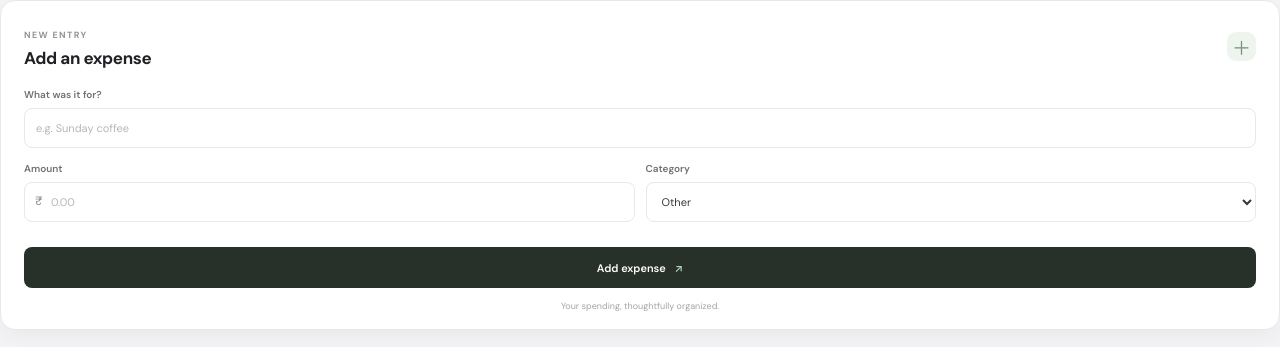
Scenario: ExpenseForm › rejects an empty title
The image size is (1280, 347).
Step 1. Type "10" into the number field labelled "Amount ₹" → (329, 202), box [24,182,634,222]
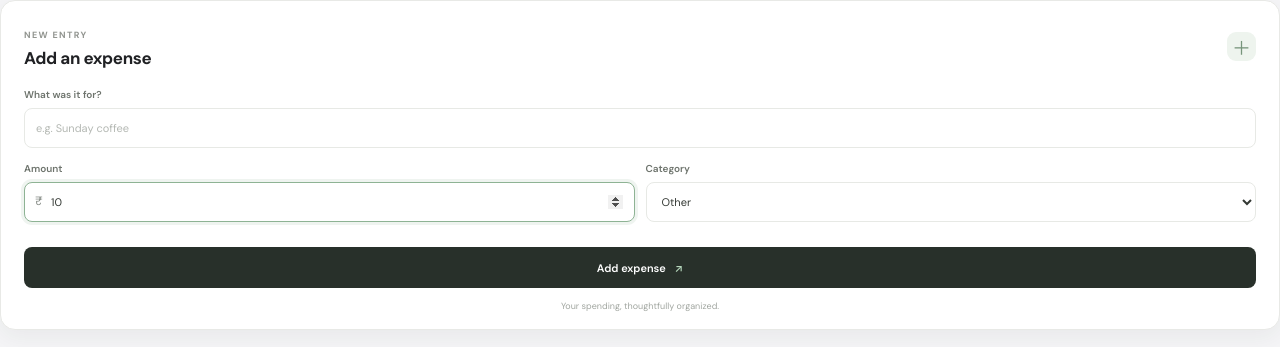
Step 2. Click the button "Add expense ↗" → click(640, 268), box [24,247,1256,288]
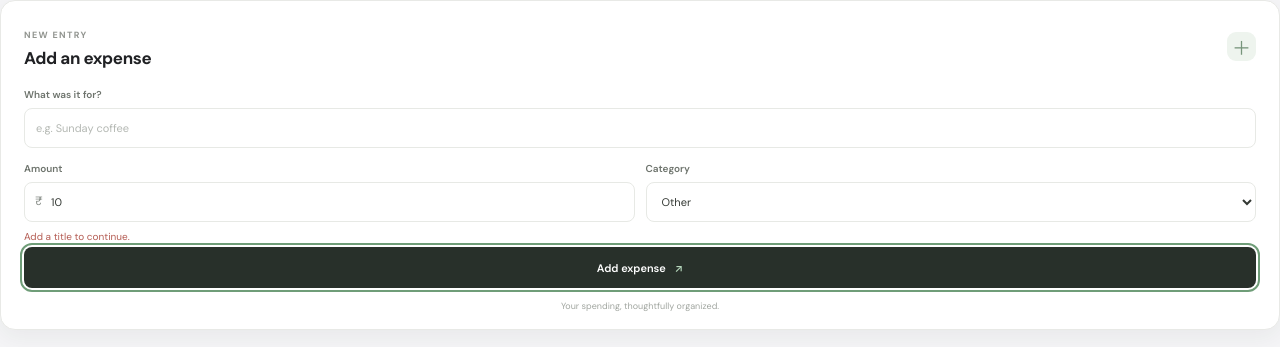
Now the message shows "title", box [24,230,130,243]
